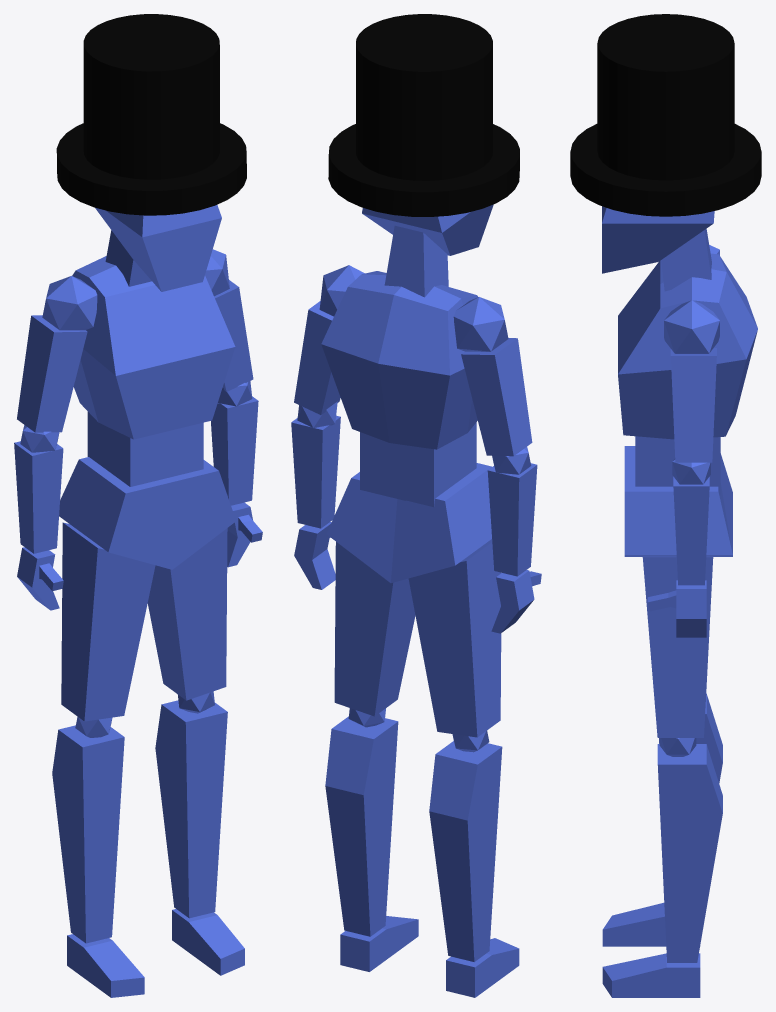
The model's file is Pnj.fbx.
3 views of the same model, side by side, from view 1: azimuth 30°, elevation 25°; view 2: azimuth 150°, elevation 25°; view 3: azimuth 270°, elevation 25° (orthographic).
Parts seen in each view (by area): view 1: Character, Hat; view 2: Character, Hat; view 3: Character, Hat.
Part boxes in pixels (bbox=[...]): Character: bbox=[14, 205, 262, 997]; Hat: bbox=[56, 14, 246, 215]; Character: bbox=[291, 204, 541, 997]; Hat: bbox=[328, 14, 519, 216]; Character: bbox=[602, 206, 757, 997]; Hat: bbox=[570, 14, 761, 216].
Bounding box in the file's own units: 71.39 × 276 × 51.84.
